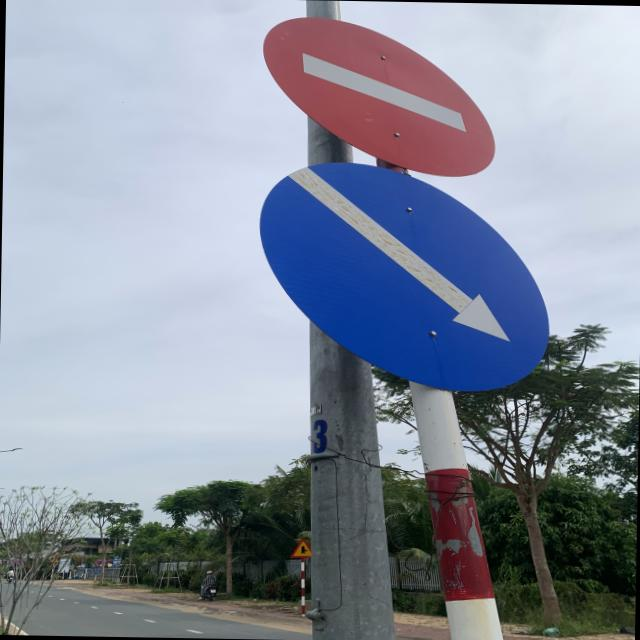Cam_Di_Nguoc_Chieu: (261, 15, 499, 174)
Chi_Huong_Di_Phai: (256, 160, 556, 394)
